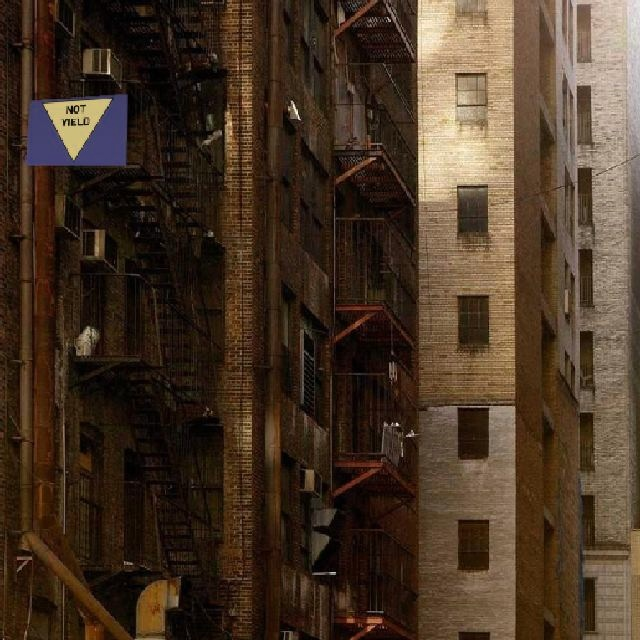NOT_YIELD: (36, 97, 113, 162)
